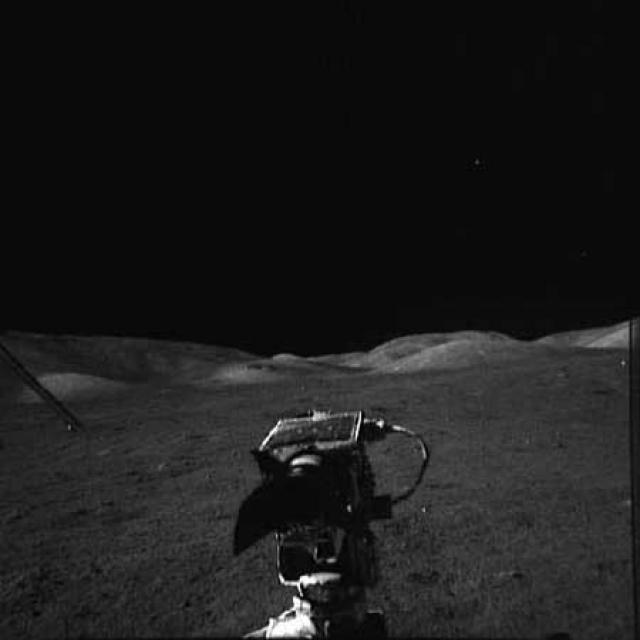artifact: (237, 405, 438, 639), (2, 327, 83, 437)
